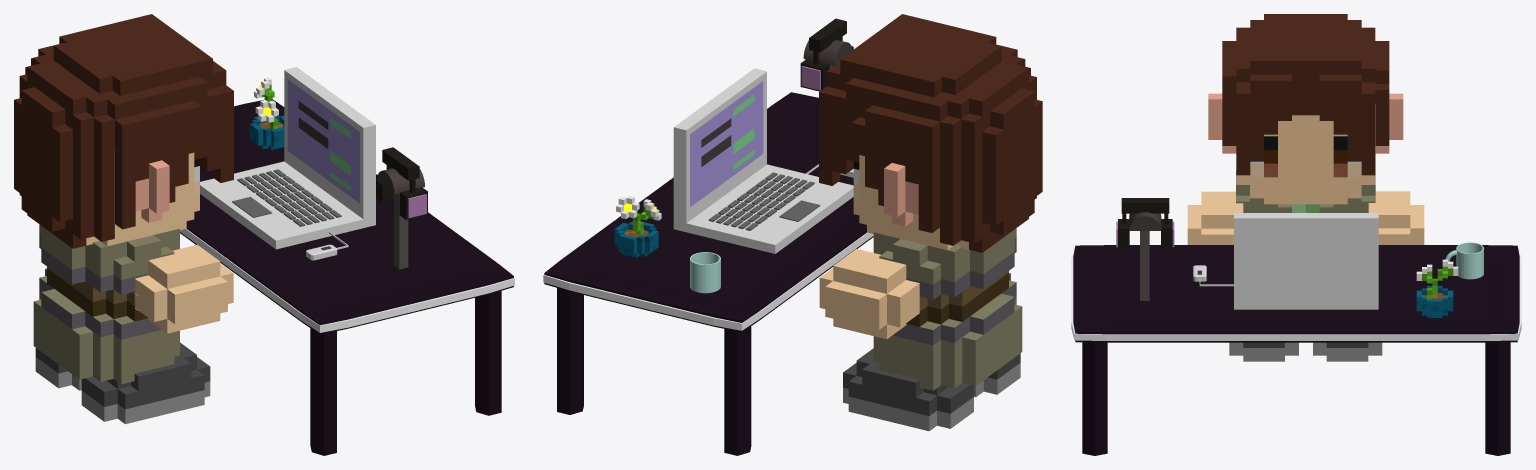
File: desk.glb
3 renders of one model, left to right at view 1: azimuth 30°, elevation 25°; view 2: azimuth 150°, elevation 25°; view 3: azimuth 270°, elevation 25°, orthographic. The views are drawn at different scales.
Parts seen in each view (by area): view 1: main gauche, Cube, Object_4.001, main gauche.001, Cube.006, FLower; view 2: main gauche, Cube, Object_4.001, Cube.006, FLower, Cylinder; view 3: Cube, main gauche, Object_4.001, Cube.006, main gauche.001, FLower, Cylinder.
Part boxes in pixels (x1,y1,x2,y2): main gauche: [14, 14, 233, 424]; Cube: [180, 99, 514, 455]; Object_4.001: [200, 67, 375, 249]; main gauche.001: [134, 244, 233, 333]; Cube.006: [376, 147, 427, 269]; FLower: [249, 77, 284, 149]; main gauche: [819, 14, 1042, 431]; Cube: [543, 92, 873, 455]; Object_4.001: [673, 68, 853, 253]; Cube.006: [800, 18, 853, 91]; FLower: [614, 196, 661, 257]; Cylinder: [690, 252, 720, 293]; Cube: [1071, 245, 1521, 455]; main gauche: [1208, 14, 1424, 361]; Object_4.001: [1234, 213, 1378, 309]; Cube.006: [1116, 198, 1174, 300]; main gauche.001: [1187, 191, 1243, 244]; FLower: [1416, 259, 1458, 317]; Cylinder: [1445, 242, 1483, 279].
Size of the model in its own units: 3.27 by 2.97 by 3.97.
